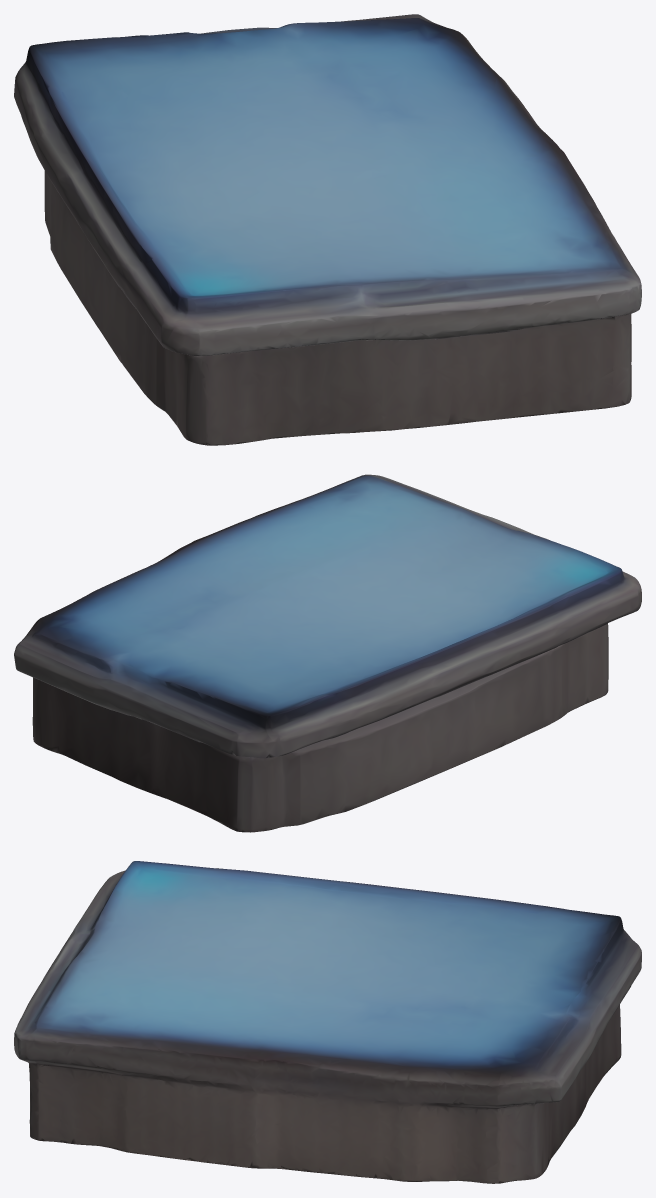
The picture shows the model from 3 angles, top to bottom: view 1: azimuth 30°, elevation 25°; view 2: azimuth 150°, elevation 25°; view 3: azimuth 270°, elevation 25°; orthographic projection. The views are drawn at different scales.
Parts seen in each view (by area): view 1: instance_0012; view 2: instance_0012; view 3: instance_0012.
Part boxes in pixels (x1,y1,x2,y2): instance_0012: (14, 14, 641, 445); instance_0012: (14, 474, 641, 832); instance_0012: (14, 861, 641, 1183).
Bounding box in the file's own units: 0.4655 × 0.1371 × 0.5857.
